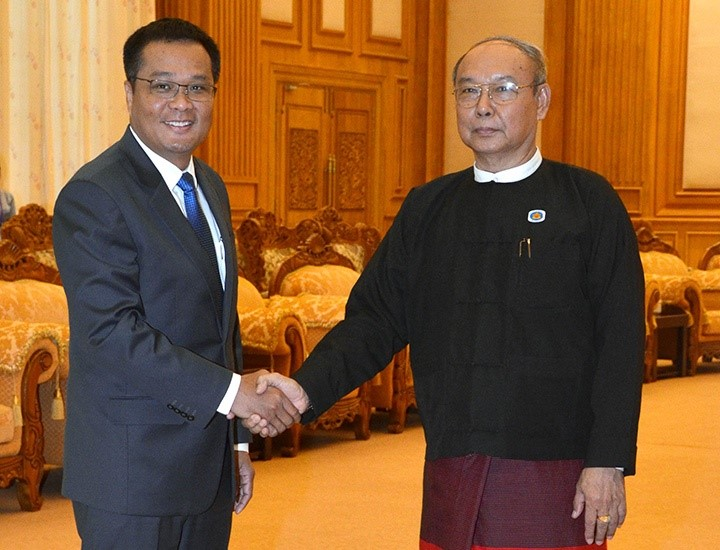face_no_mask: (123, 30, 222, 160), (450, 39, 543, 159)
